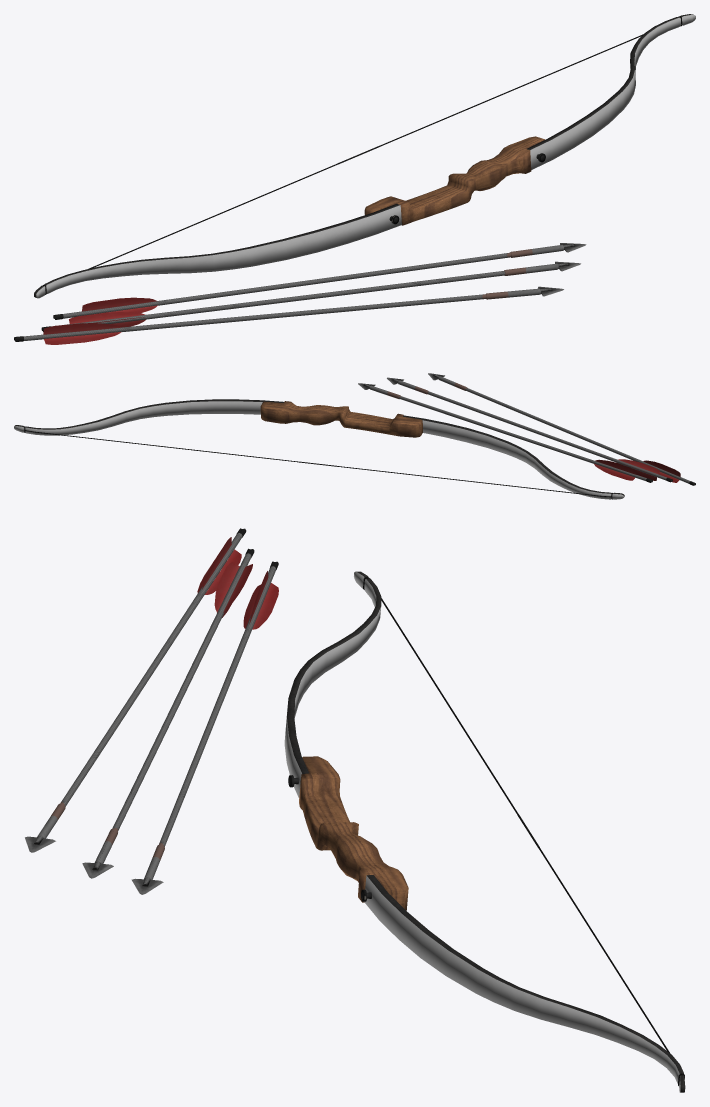
The picture shows the model from 3 angles, top to bottom: view 1: azimuth 30°, elevation 25°; view 2: azimuth 150°, elevation 25°; view 3: azimuth 270°, elevation 25°; orthographic projection. The views are drawn at different scales.
Visible parts, largest first — view 1: bow_world, arrow_new.002, arrow_new, arrow_new.001; view 2: bow_world, arrow_new, arrow_new.001, arrow_new.002; view 3: bow_world, arrow_new.001, arrow_new, arrow_new.002.
Boxes of the visible parts, x1,y1,x2,y2 form: bow_world: (34, 14, 695, 298); arrow_new.002: (14, 286, 563, 344); arrow_new: (53, 243, 586, 319); arrow_new.001: (41, 261, 580, 332); bow_world: (14, 399, 624, 499); arrow_new: (358, 383, 652, 482); arrow_new.001: (387, 377, 672, 482); arrow_new.002: (428, 373, 695, 485); bow_world: (284, 571, 685, 1092); arrow_new.001: (82, 548, 254, 878); arrow_new: (131, 561, 278, 894); arrow_new.002: (25, 528, 246, 852).
Bounding box in the file's own units: 1.65 × 0.0586 × 0.8254.
2 materials, 2 textured.
